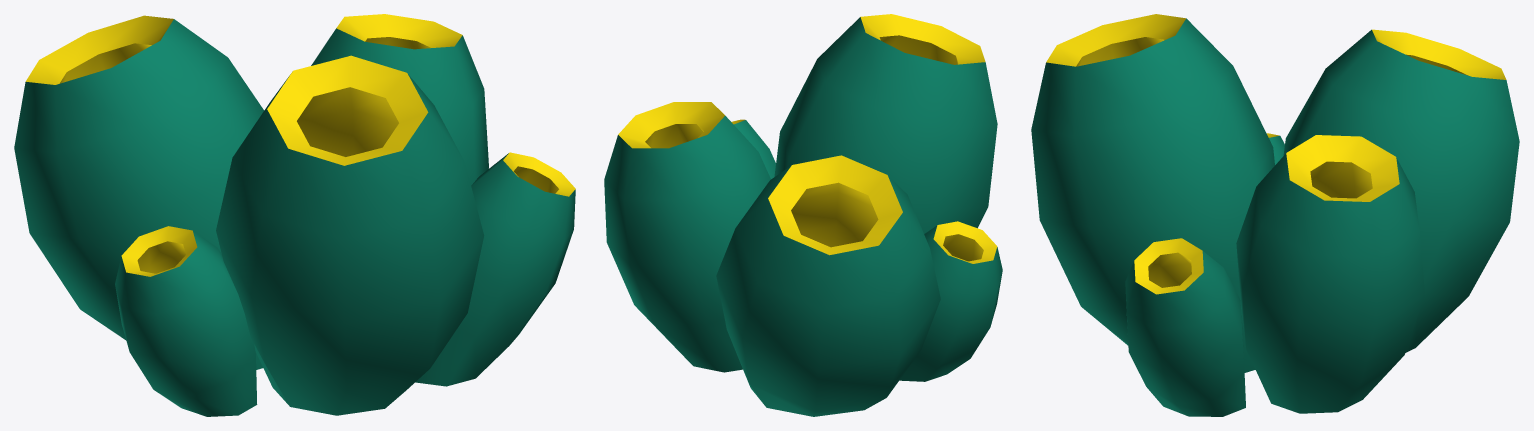
The model's file is Sea_plant_2.002.fbx.
3 renders of one model, left to right at view 1: azimuth 30°, elevation 25°; view 2: azimuth 150°, elevation 25°; view 3: azimuth 270°, elevation 25°, orthographic. The views are drawn at different scales.
Parts seen in each view (by area): view 1: Sea_plant_2.002; view 2: Sea_plant_2.002; view 3: Sea_plant_2.002.
Part boxes in pixels (x1=…): Sea_plant_2.002: x1=14, y1=14, x2=575, y2=416; Sea_plant_2.002: x1=604, y1=14, x2=1002, y2=416; Sea_plant_2.002: x1=1031, y1=14, x2=1519, y2=416.
Bounding box in the file's own units: 0.9615 × 0.7816 × 1.09.
